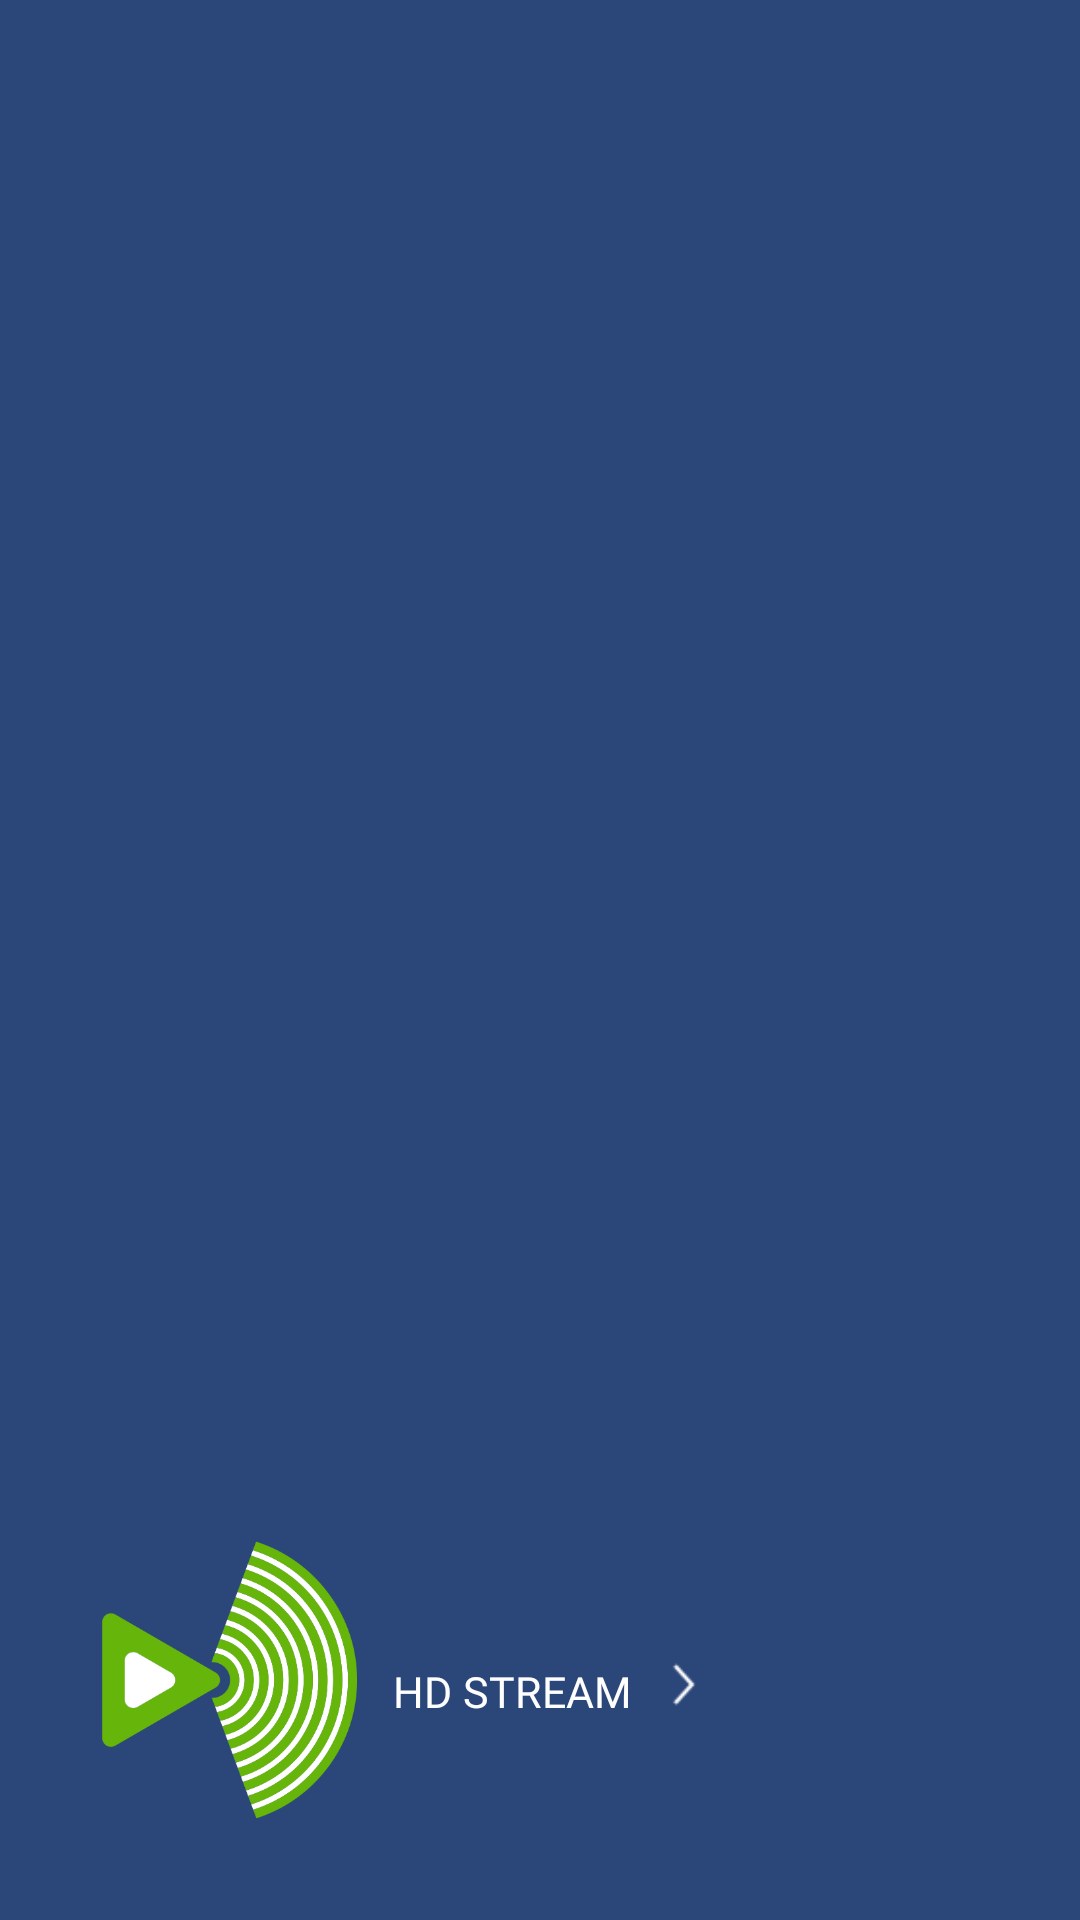

Icons on this 1080×1920 Android screen, each with the point to tap as (x,y):
forwardicon: (684,1684)
